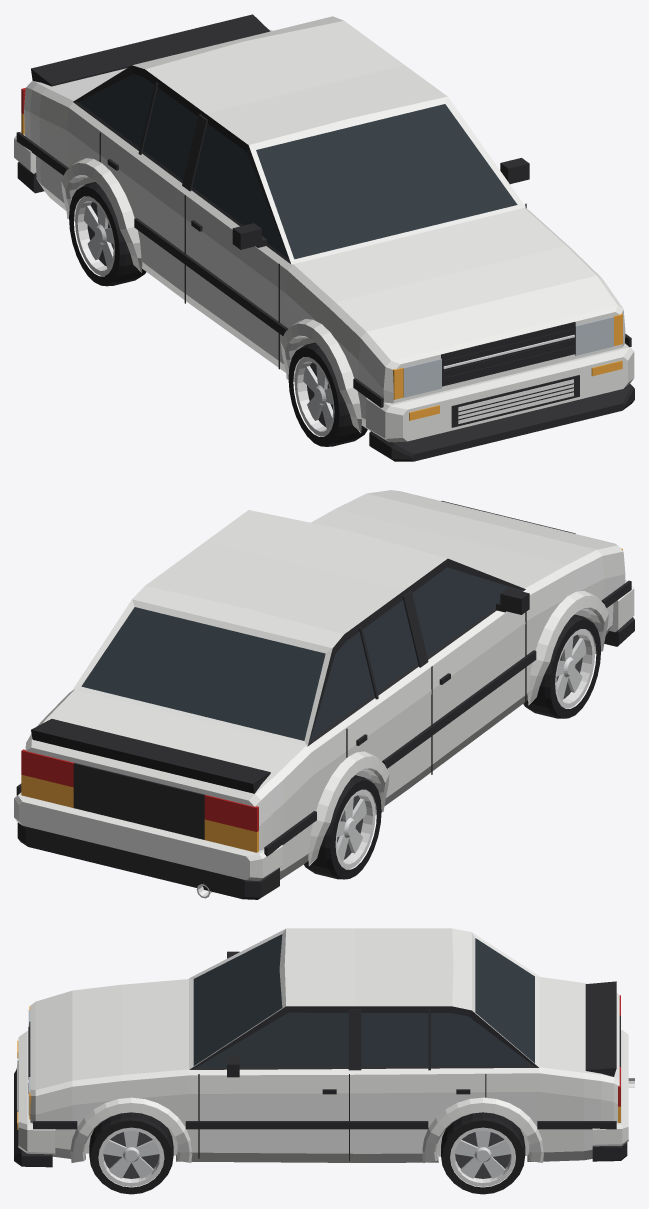
The model's file is lancer_box_1983_modular.glb.
3 renders of one model, top to bottom at view 1: azimuth 30°, elevation 25°; view 2: azimuth 150°, elevation 25°; view 3: azimuth 270°, elevation 25°, orthographic. The views are drawn at different scales.
Visible parts, largest first — view 1: shell_base, windshield, hood_stock, fender_fr_stock, bumper_front_stock, window_rear_-1, spoiler_rear_stock, window_front_-1, wheel_fr, wheel_rr, grille, fender_fl_stock (+8 smaller); view 2: shell_base, rear_glass, bumper_rear_stock, hood_stock, fender_fr_stock, trunk_stock, window_rear_-1, rear_panel, spoiler_rear_stock, window_front_-1, wheel_rr, wheel_fr (+7 smaller); view 3: shell_base, fender_fl_stock, hood_stock, window_rear_1, windshield, window_front_1, wheel_fl, wheel_rl, rear_glass, trunk_stock, spoiler_rear_stock, overfender_rl_stock (+5 smaller).
Boxes of the visible parts, <box> form: shell_base: <box>16,16,599,397</box>; windshield: <box>256,104,517,259</box>; hood_stock: <box>318,214,596,356</box>; fender_fr_stock: <box>280,258,416,433</box>; bumper_front_stock: <box>366,343,634,442</box>; window_rear_-1: <box>79,74,197,179</box>; spoiler_rear_stock: <box>31,14,270,86</box>; window_front_-1: <box>192,123,288,258</box>; wheel_fr: <box>288,342,367,446</box>; wheel_rr: <box>69,182,146,286</box>; grille: <box>441,322,575,386</box>; fender_fl_stock: <box>500,207,631,353</box>; shell_base: <box>17,495,597,879</box>; rear_glass: <box>81,607,325,740</box>; bumper_rear_stock: <box>14,787,282,899</box>; hood_stock: <box>336,495,595,580</box>; fender_fr_stock: <box>504,539,631,709</box>; trunk_stock: <box>45,694,286,791</box>; window_rear_-1: <box>310,600,417,740</box>; rear_panel: <box>73,763,205,839</box>; spoiler_rear_stock: <box>31,719,270,793</box>; window_front_-1: <box>412,567,519,656</box>; wheel_rr: <box>304,775,381,879</box>; wheel_fr: <box>523,614,600,718</box>; shell_base: <box>30,928,619,1162</box>; fender_fl_stock: <box>30,1060,198,1162</box>; hood_stock: <box>34,988,188,1081</box>; window_rear_1: <box>361,1013,532,1066</box>; windshield: <box>193,934,282,1065</box>; window_front_1: <box>196,1012,348,1067</box>; wheel_fl: <box>89,1112,173,1194</box>; wheel_rl: <box>441,1112,525,1194</box>; rear_glass: <box>475,938,534,1063</box>; trunk_stock: <box>539,984,585,1065</box>; spoiler_rear_stock: <box>585,981,616,1076</box>; overfender_rl_stock: <box>422,1097,543,1163</box>.
Size of the model in its own units: 1.9 by 1.41 by 4.41.
